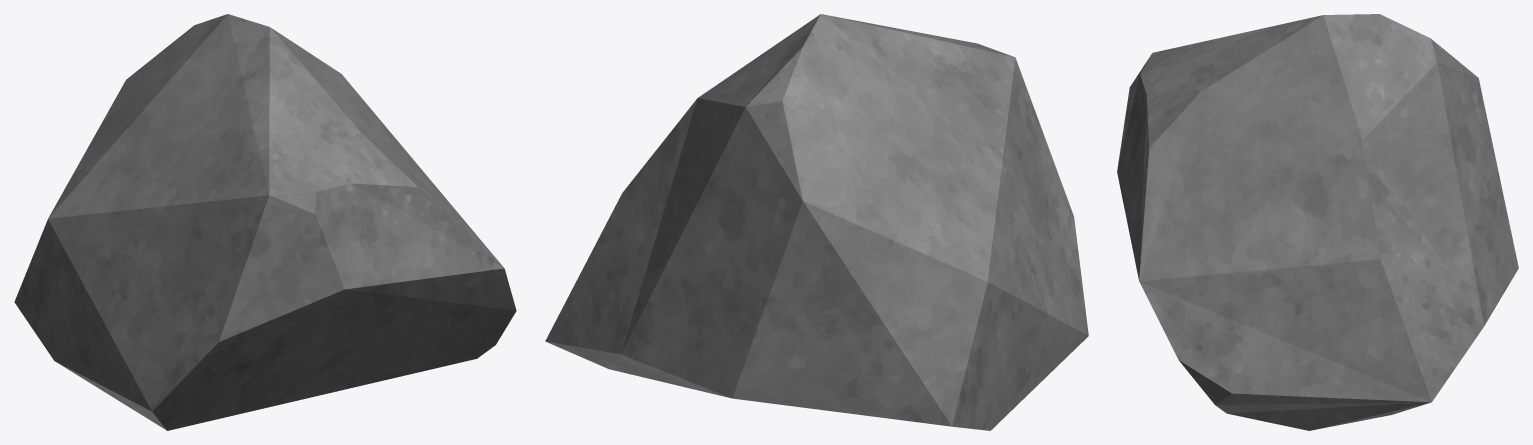
The model's file is stone.fbx.
3 renders of one model, left to right at view 1: azimuth 30°, elevation 25°; view 2: azimuth 150°, elevation 25°; view 3: azimuth 270°, elevation 25°, orthographic. The views are drawn at different scales.
Parts seen in each view (by area): view 1: stone; view 2: stone; view 3: stone.
Boxes of the visible parts, left/top/right/bottom form: stone: left=14, top=14, right=516, bottom=430; stone: left=545, top=14, right=1088, bottom=430; stone: left=1117, top=14, right=1518, bottom=430.
Size of the model in its own units: 85.23 by 75.66 by 80.04.
